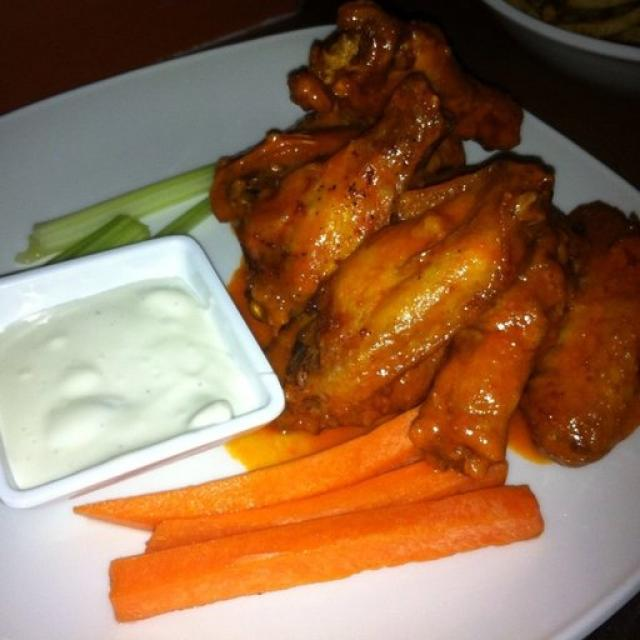Chicken Wing: (284, 145, 540, 429), (220, 79, 439, 320)
Yogurt cup: (0, 279, 248, 481)
